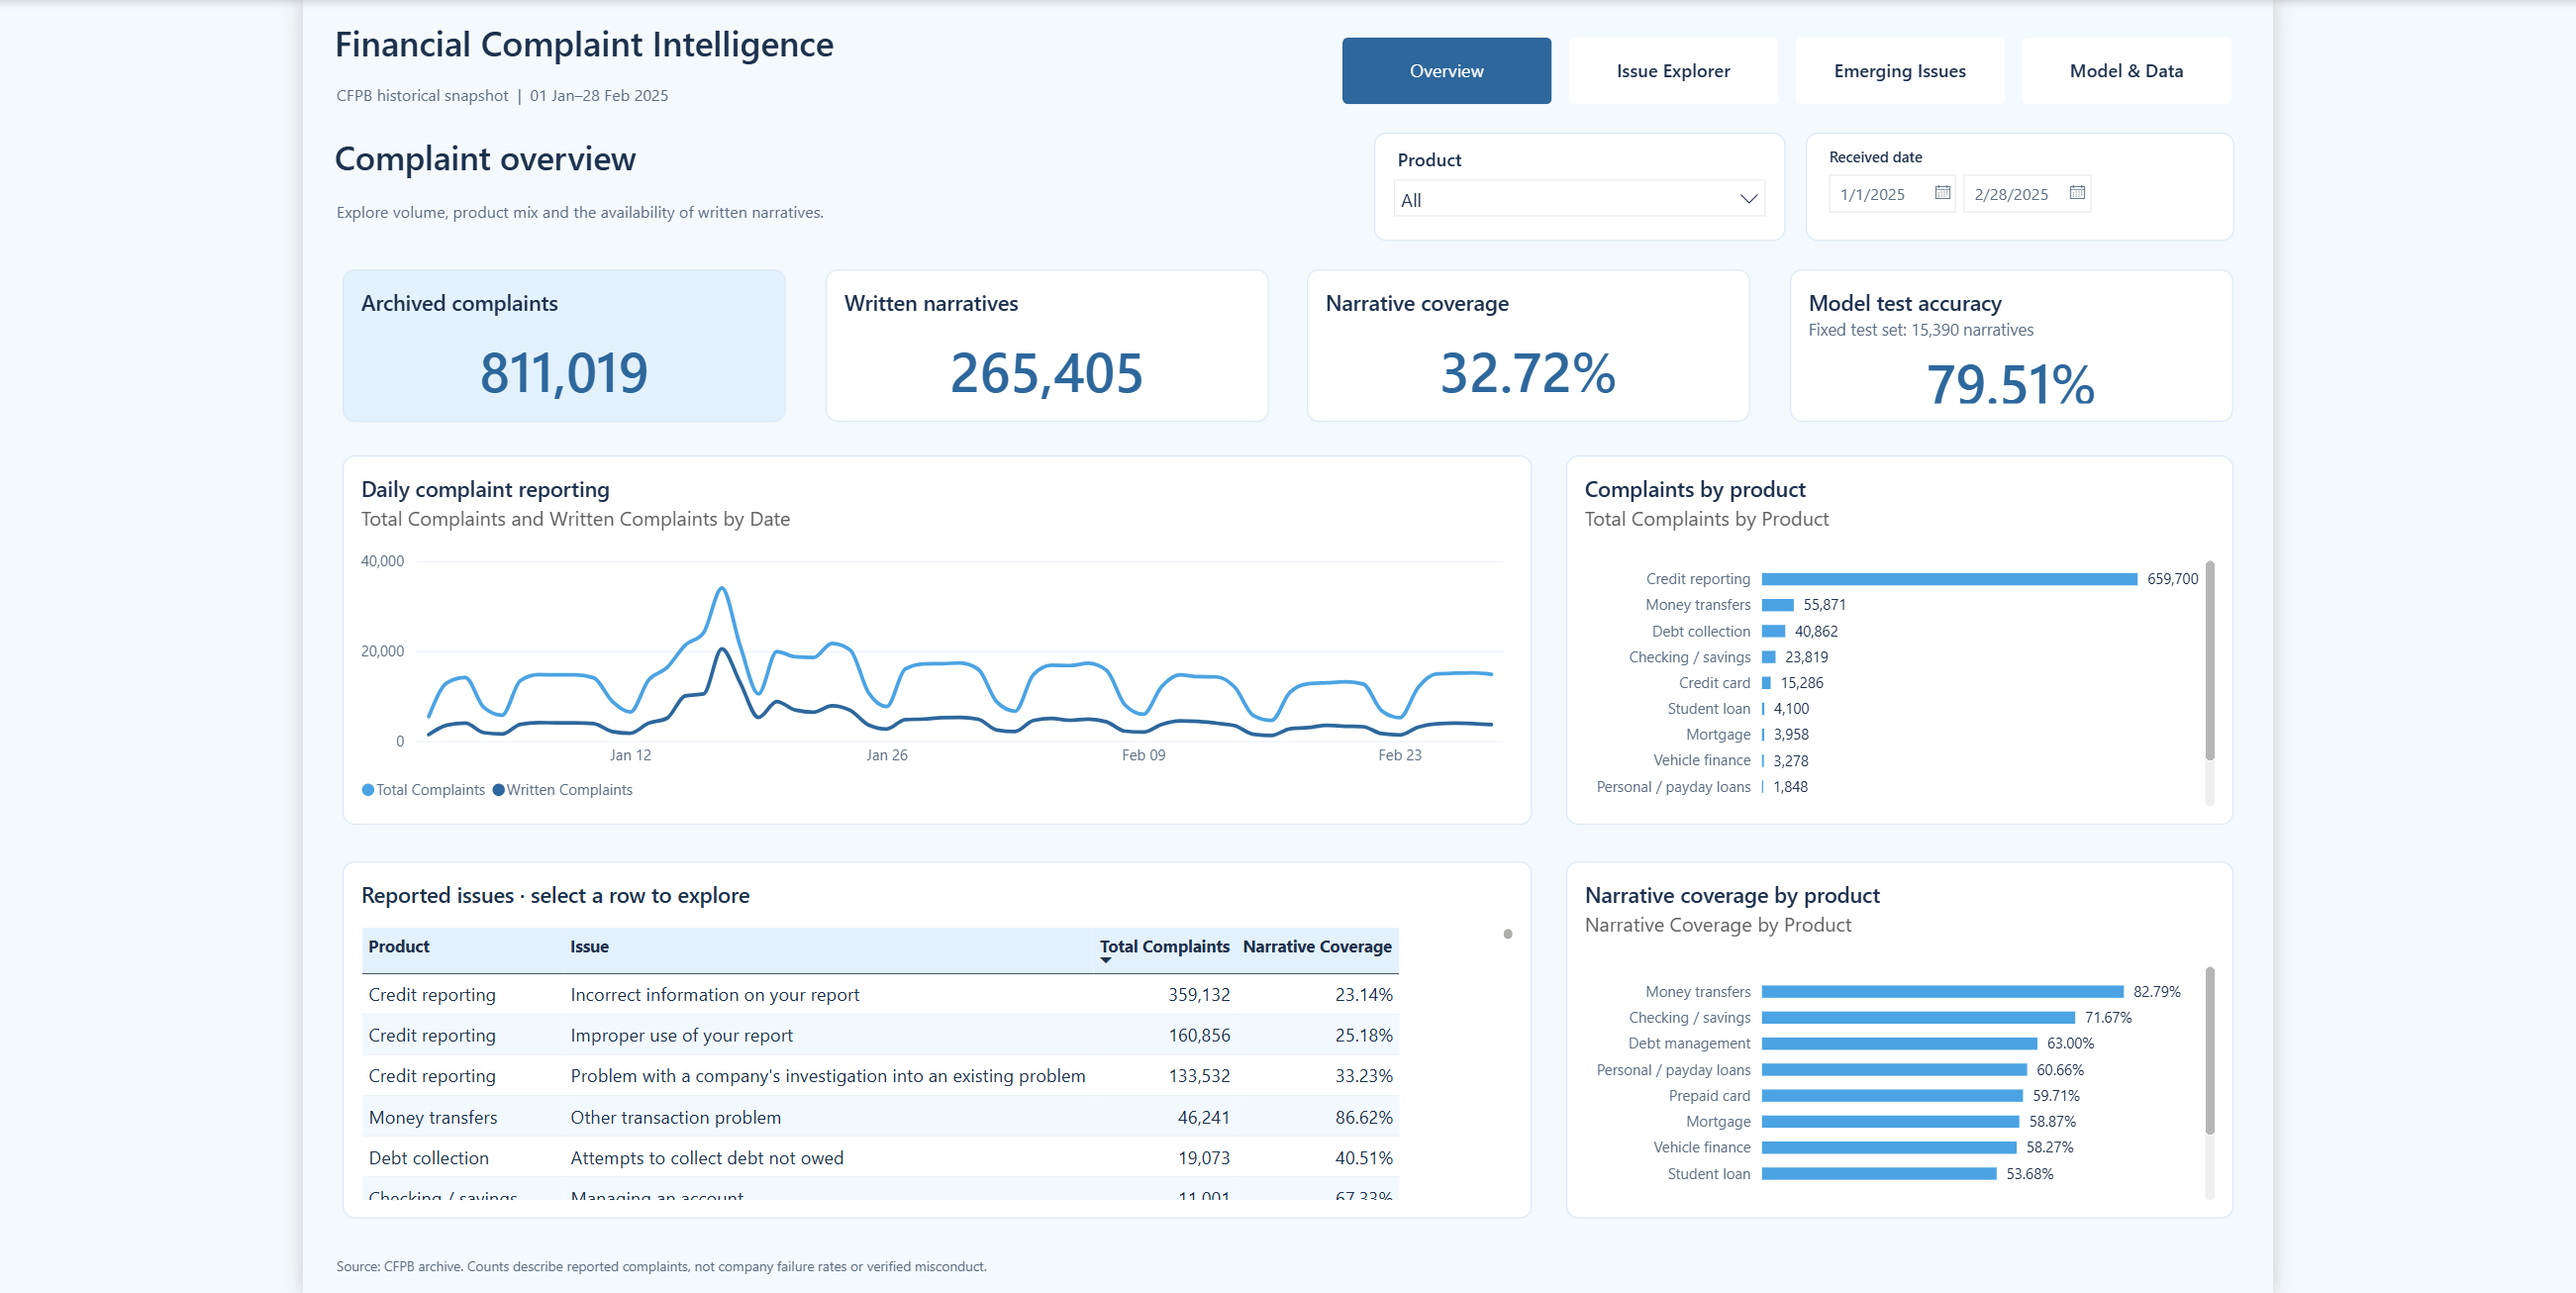

The dashboard page shown, as its layout file describes it:
{"tool":"powerbi","page":{"name":"Overview","canvas":[1600,1050],"ordinal":0},"visuals":[{"type":"textbox","box":[26,16,800,48],"z":1},{"type":"textbox","box":[28,66,770,29],"z":2},{"type":"pageNavigator","box":[844,30,724,54],"z":3},{"type":"textbox","box":[26,110,650,45],"z":4},{"type":"textbox","box":[28,160,630,36],"z":5},{"type":"textbox","box":[28,1016,1510,28],"z":6},{"type":"slicer","fields":{"Values":["Products.Product Short"]},"box":[870,108,334,88],"z":7},{"type":"slicer","fields":{"Values":["Calendar.Date"]},"box":[1220,108,348,88],"z":8},{"type":"card","title":"Archived complaints","fields":{"Values":["Complaints.Total Complaints"]},"box":[32,218,360,124],"z":9},{"type":"card","title":"Written narratives","fields":{"Values":["Complaints.Written Complaints"]},"box":[424,218,360,124],"z":10},{"type":"card","title":"Narrative coverage","fields":{"Values":["Complaints.Narrative Coverage"]},"box":[816,218,360,124],"z":11},{"type":"card","title":"Model test accuracy","fields":{"Values":["Model.Test Accuracy"]},"box":[1208,218,360,124],"z":12},{"type":"lineChart","title":"Daily complaint reporting","fields":{"Category":["Calendar.Date"],"Y":["Complaints.Total Complaints","Complaints.Written Complaints"]},"box":[32,370,966,300],"z":13},{"type":"barChart","title":"Complaints by product","fields":{"Category":["Products.Product Short"],"Y":["Complaints.Total Complaints"]},"box":[1026,370,542,300],"z":14},{"type":"tableEx","title":"Reported issues · select a row to explore","fields":{"Values":["Products.Product Short","Issues.Issue","Complaints.Total Complaints","Complaints.Narrative Coverage"]},"box":[32,700,966,290],"z":15},{"type":"barChart","title":"Narrative coverage by product","fields":{"Category":["Products.Product Short"],"Y":["Complaints.Narrative Coverage"]},"box":[1026,700,542,290],"z":16}]}

Visuals, with their boxes on the page's 1600x1050 design canvas (x1, y1, x2, y2). These are canvas units, not pixel positions in the 2576x1293 screenshot, which may show the page scaled, cropped or inside an application window:
textbox: box(26, 16, 826, 64)
textbox: box(28, 66, 798, 95)
pageNavigator: box(844, 30, 1568, 84)
textbox: box(26, 110, 676, 155)
textbox: box(28, 160, 658, 196)
textbox: box(28, 1016, 1538, 1044)
slicer - Products.Product Short: box(870, 108, 1204, 196)
slicer - Calendar.Date: box(1220, 108, 1568, 196)
"Archived complaints" card: box(32, 218, 392, 342)
"Written narratives" card: box(424, 218, 784, 342)
"Narrative coverage" card: box(816, 218, 1176, 342)
"Model test accuracy" card: box(1208, 218, 1568, 342)
"Daily complaint reporting" lineChart: box(32, 370, 998, 670)
"Complaints by product" barChart: box(1026, 370, 1568, 670)
"Reported issues · select a row to explore" tableEx: box(32, 700, 998, 990)
"Narrative coverage by product" barChart: box(1026, 700, 1568, 990)
